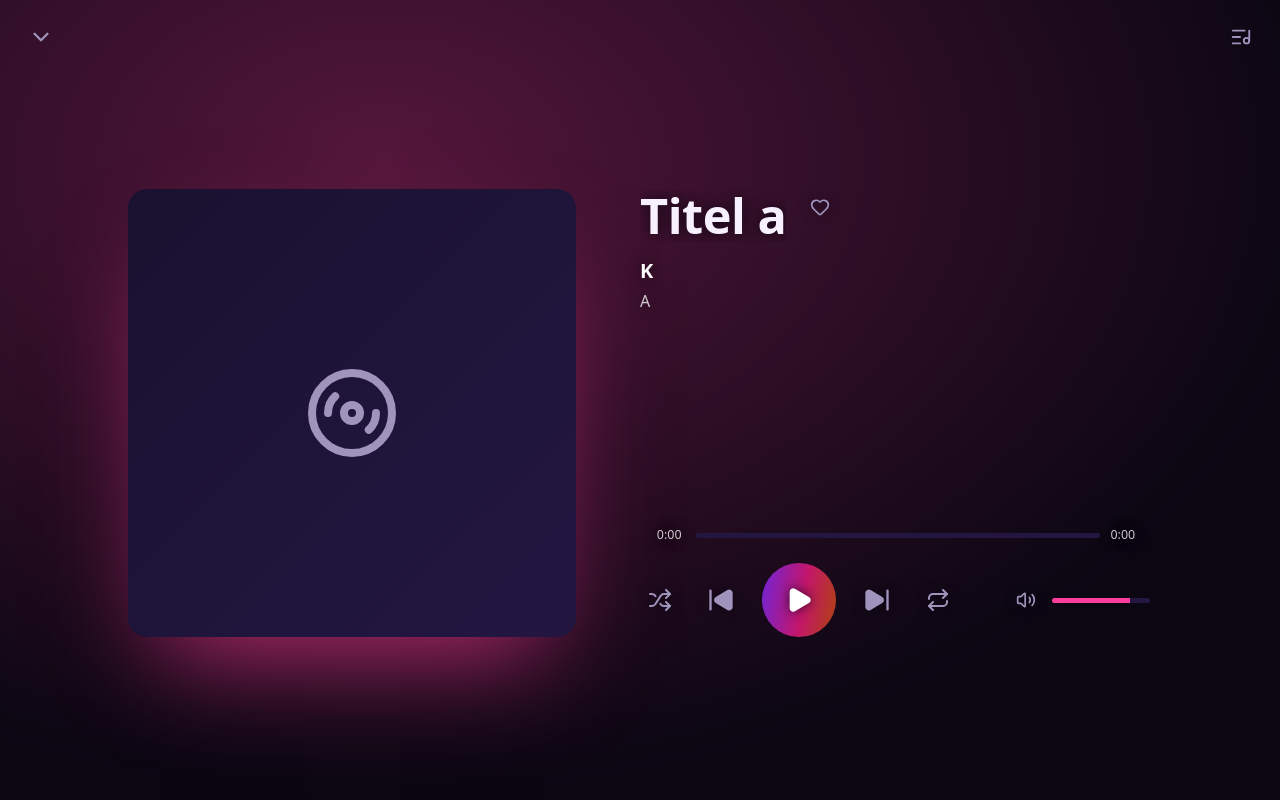
Test: Herz im Vollbild › zeigt im Vollbild-Player das aktuelle Herz und schaltet es um
Click the button named "Titel zu Favoriten hinzufügen" at (820, 207), box [802,189,838,225]
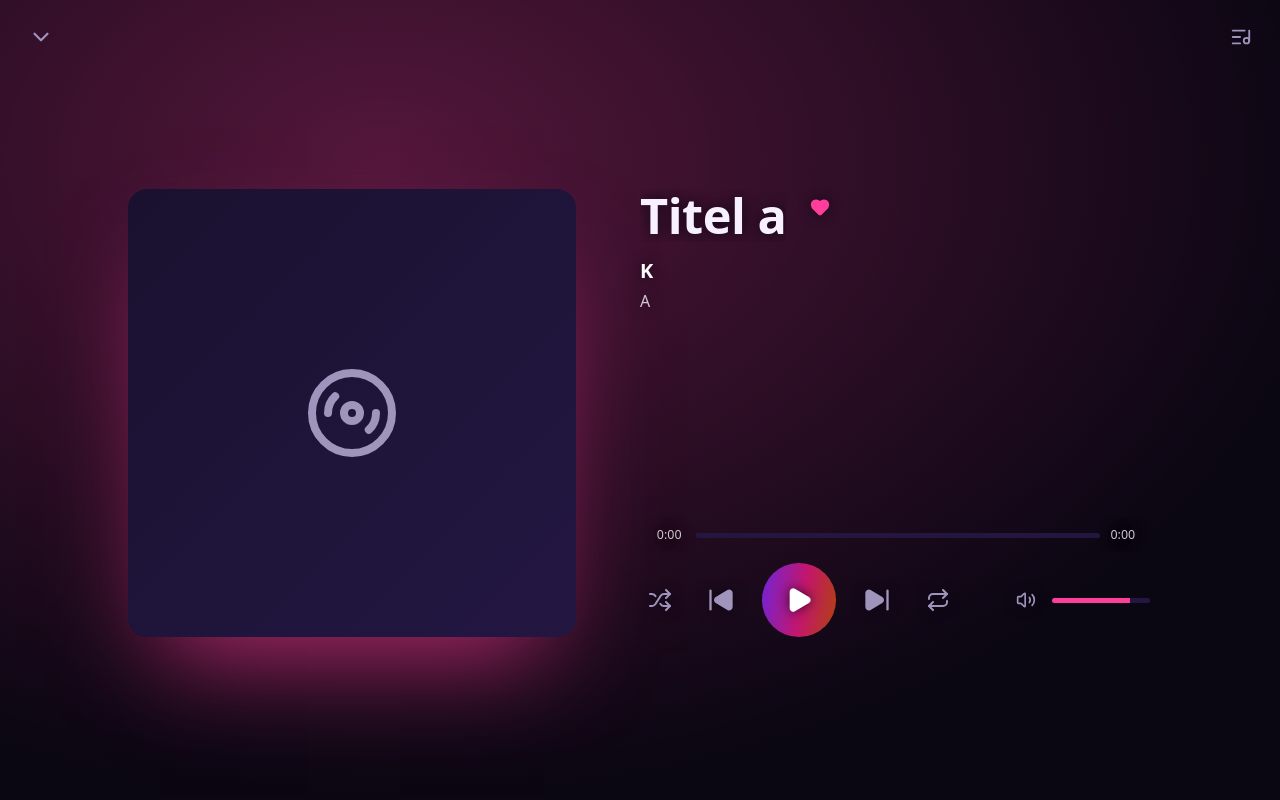
Expected: the button named "Titel aus Favoriten entfernen" is shown, [802,189,838,225]
